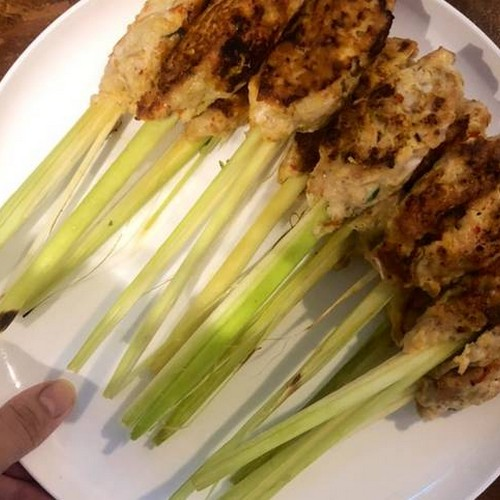sate languan: (346, 48, 500, 360), (171, 3, 434, 168)
